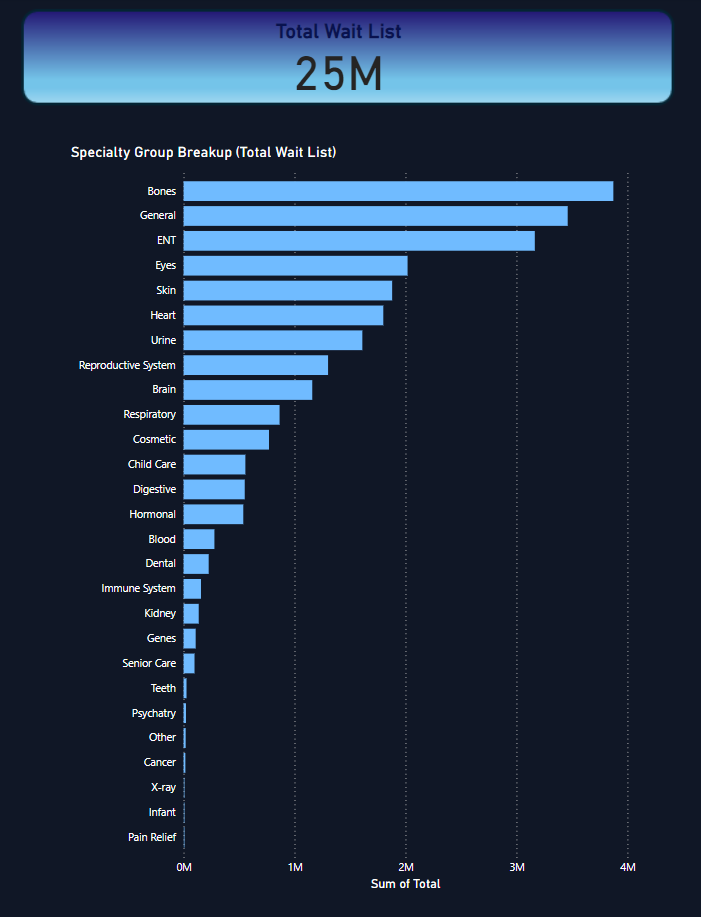

What the dashboard file says about the page in this screenshot:
{"tool":"powerbi","page":{"name":"DrillDown","canvas":[816,1056],"ordinal":2},"visuals":[{"type":"barChart","title":"Specialty Group Breakup (Total Wait List)","fields":{"Category":["Mapping_Specialty.Specialty Group"],"Y":["Sum(All_Data.Total)"]},"box":[80.7,167.2,654.2,857.4],"z":0},{"type":"card","title":"Total Wait List","fields":{"Values":["Sum(All_Data.Total)"]},"box":[10,25.7,764.1,88.4],"z":1000}]}

Visuals, with their boxes in screenshot pixels (x1, y1, x2, y2), scaled from the page's 816x1056 canvas onto the 701x917 screenshot:
"Specialty Group Breakup (Total Wait List)" barChart: 69,145,631,890
"Total Wait List" card: 9,22,665,99
